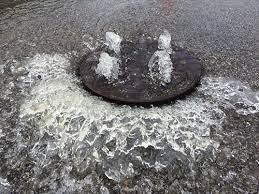drainage overflow-repair-: (15, 24, 245, 160)
